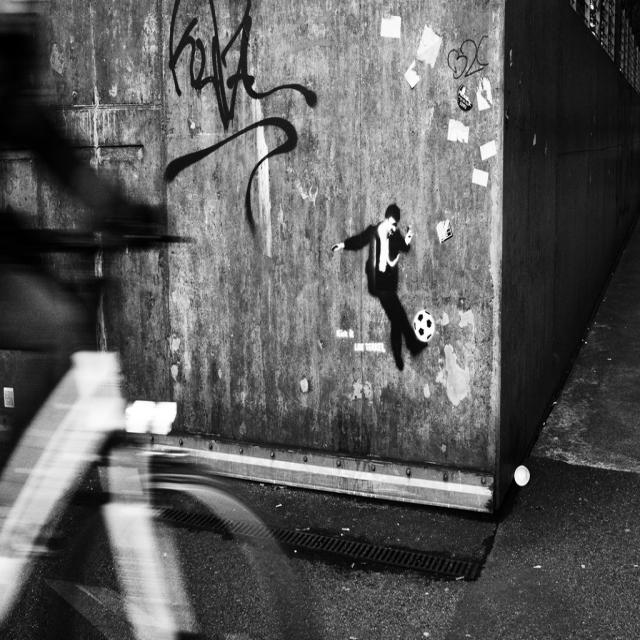ball: (412, 308, 436, 344)
